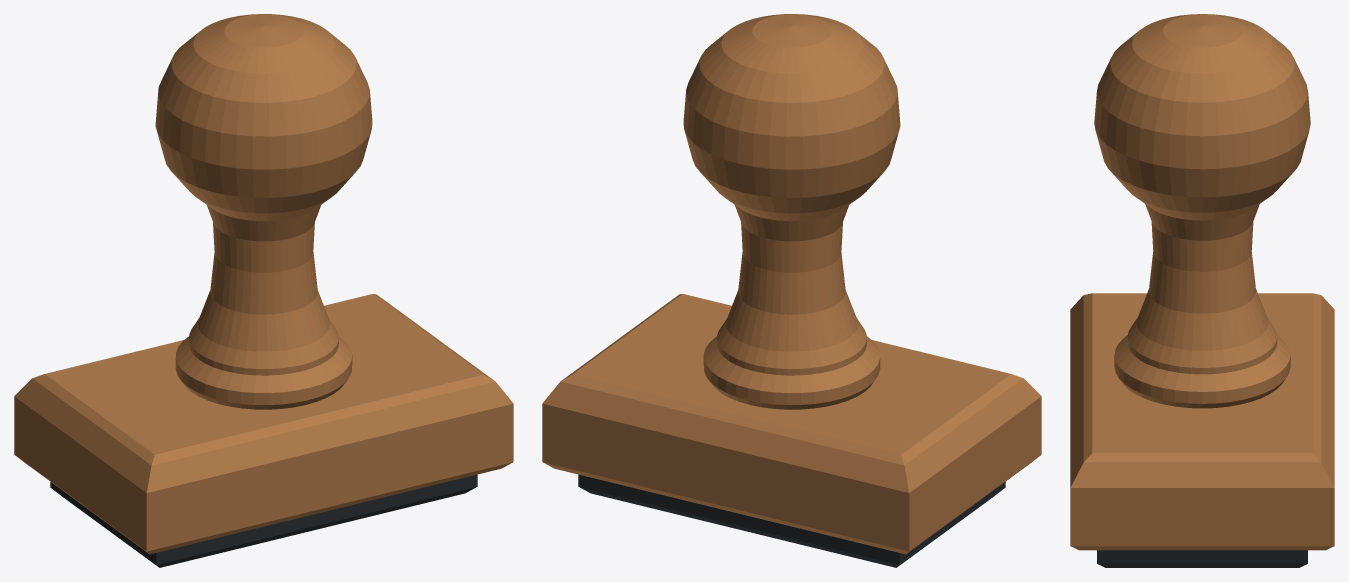
Rendered from NEW_RECOVERY_108_LOD1.fbx.
3 renders of one model, left to right at view 1: azimuth 30°, elevation 25°; view 2: azimuth 150°, elevation 25°; view 3: azimuth 270°, elevation 25°, orthographic.
Parts seen in each view (by area): view 1: Traditional_hand_stamp; view 2: Traditional_hand_stamp; view 3: Traditional_hand_stamp.
Boxes of the visible parts, x1=… form: Traditional_hand_stamp: x1=14, y1=14, x2=513, y2=567; Traditional_hand_stamp: x1=542, y1=14, x2=1041, y2=567; Traditional_hand_stamp: x1=1070, y1=14, x2=1334, y2=567.
Bounding box in the file's own units: 4.8 × 3 × 5.92.
